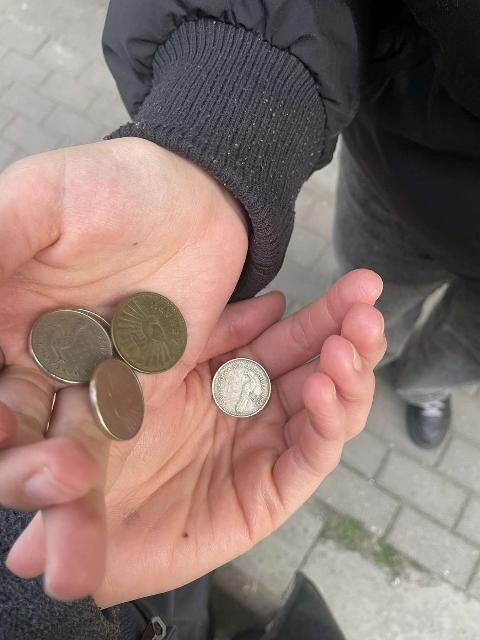coin: (30, 310, 113, 384), (111, 293, 187, 373), (90, 360, 144, 440), (212, 359, 270, 417), (67, 309, 110, 334)
